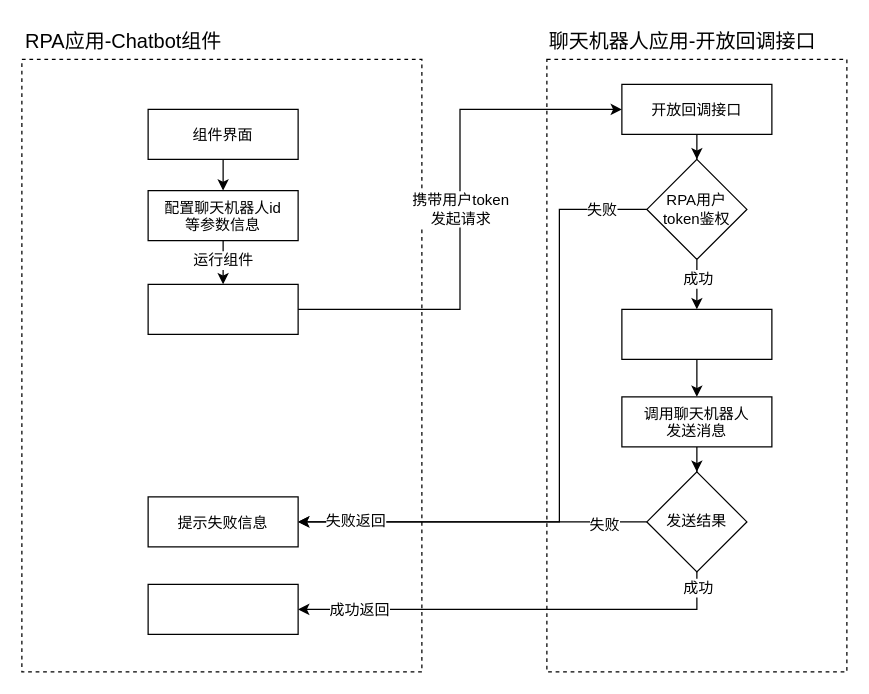
This 869x694 diagram has some shape labels left out. The shapes that lost their labels are listed below. From the top down, each one's centre as x and y in pixels, then its label:
(222,308): 请求聊天机器人 应用发送消息
(696,333): 根据机器人id及RPA 用户id查询可用机器人
(222,608): 提示发送成功
